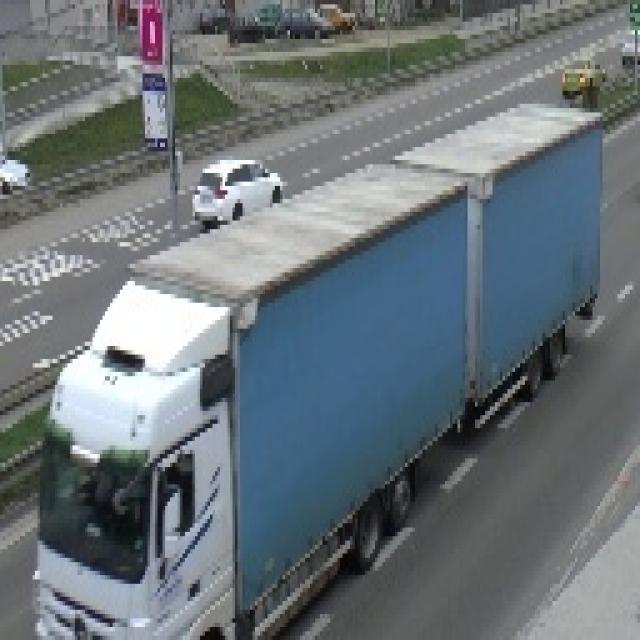SUV: (193, 160, 283, 231)
TRUCK: (29, 144, 604, 640)
